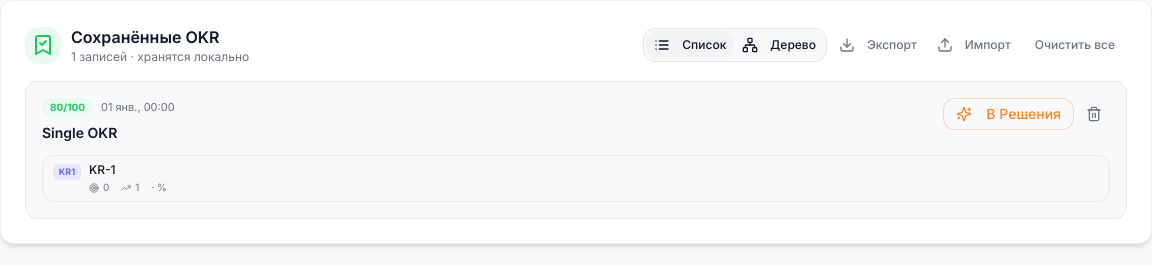
Test case: SavedOkrsList view mode toggle › в режиме Дерево действия «В Решения» и «Удалить» работают как в списке
Click the button "Дерево" at (779, 45), box [734, 31, 824, 59]
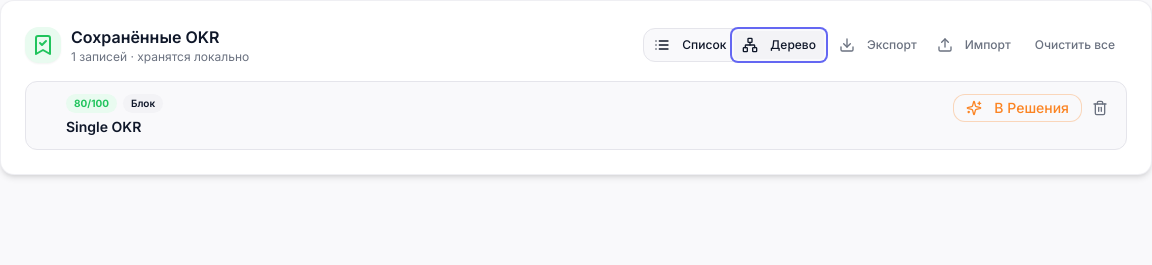
Click the button with aria-label "Передать OKR в генератор решений" at (1018, 108), box [953, 94, 1082, 122]
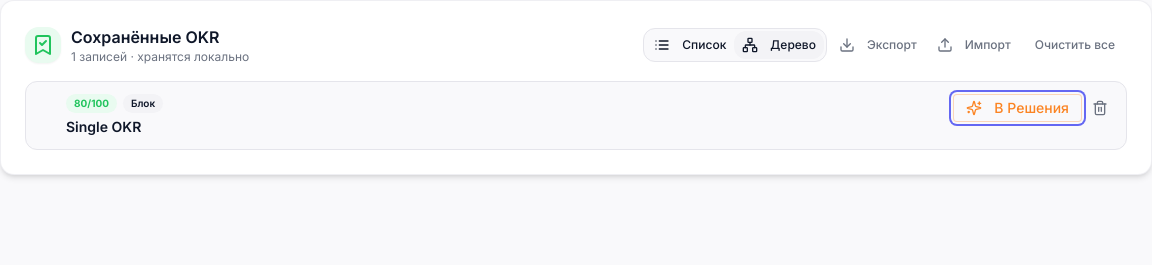
Expected: the text "Single OKR" is shown, [66, 118, 141, 135]
Click the button named "Удалить OKR" at (1100, 108), box [1086, 94, 1114, 122]
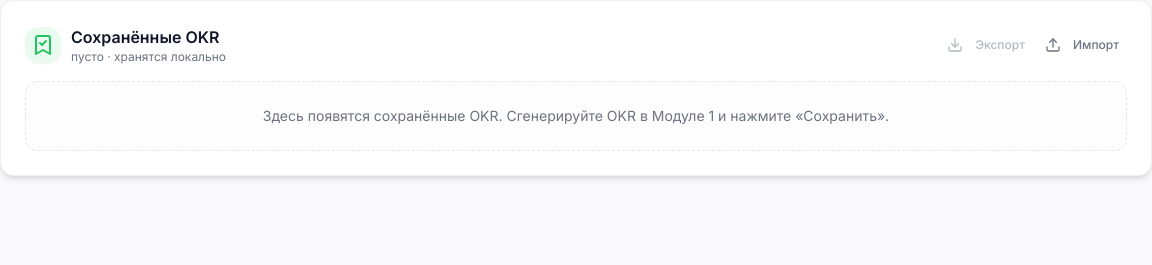
Expected: the text "Single OKR" is gone
